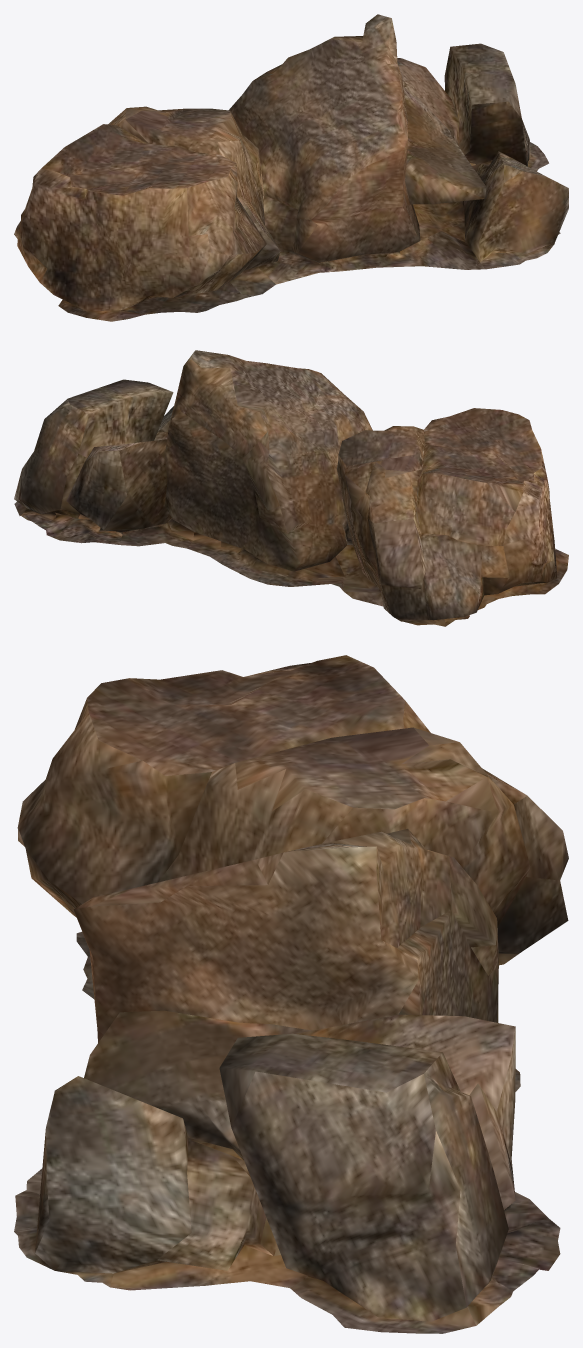
The picture shows the model from 3 angles, top to bottom: view 1: azimuth 30°, elevation 25°; view 2: azimuth 150°, elevation 25°; view 3: azimuth 270°, elevation 25°; orthographic projection. The views are drawn at different scales.
Parts seen in each view (by area): view 1: boulder_02; view 2: boulder_02; view 3: boulder_02.
Boxes of the visible parts, x1,y1,x2,y2 form: boulder_02: (14,14,568,321); boulder_02: (14,350,568,626); boulder_02: (14,655,568,1333).
Size of the model in its own units: 2.52 by 0.8711 by 1.23.
1 material, 1 textured.
